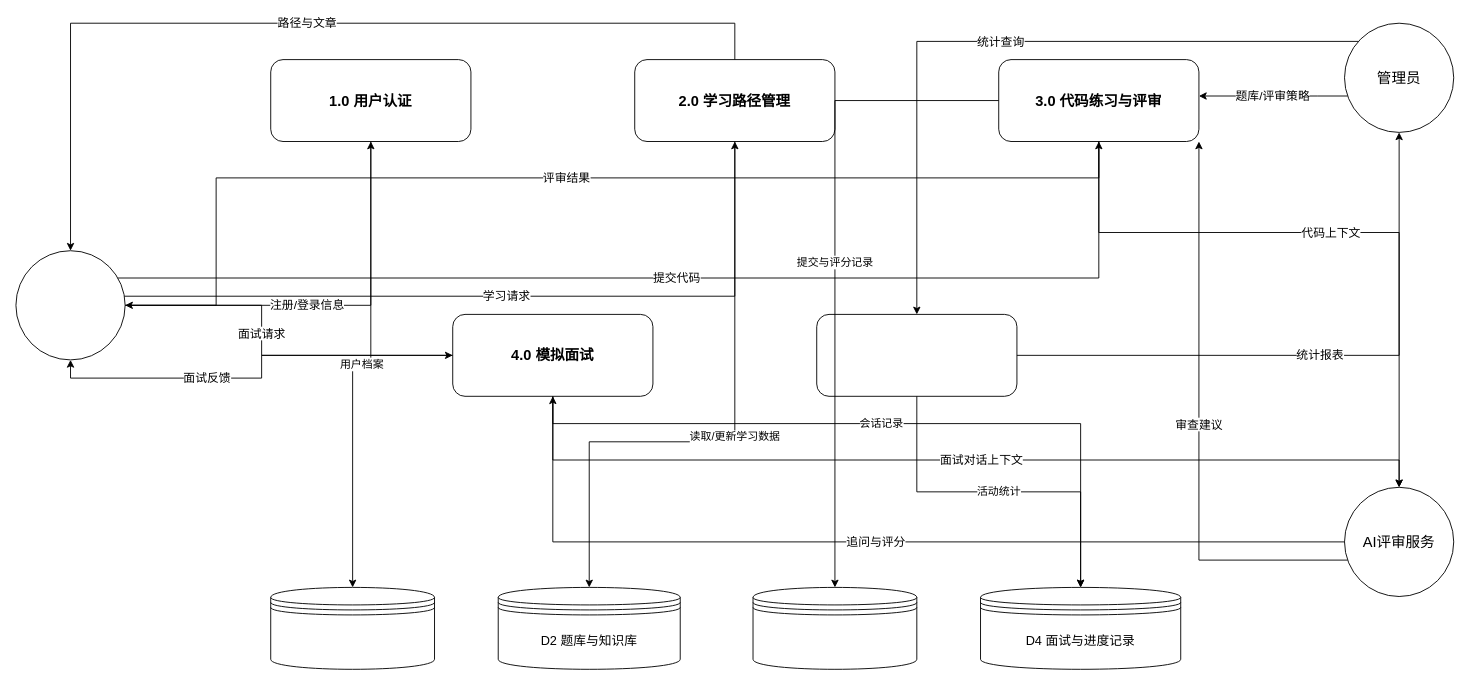
Image size: 1470x685. Some labels were removed from this diagram. Each missing label, with the centre of its shape:
5.0 学习追踪与统计: (916,354)
D1 用户数据: (352,627)
D3 提交记录: (834,627)
学生用户: (70,305)
